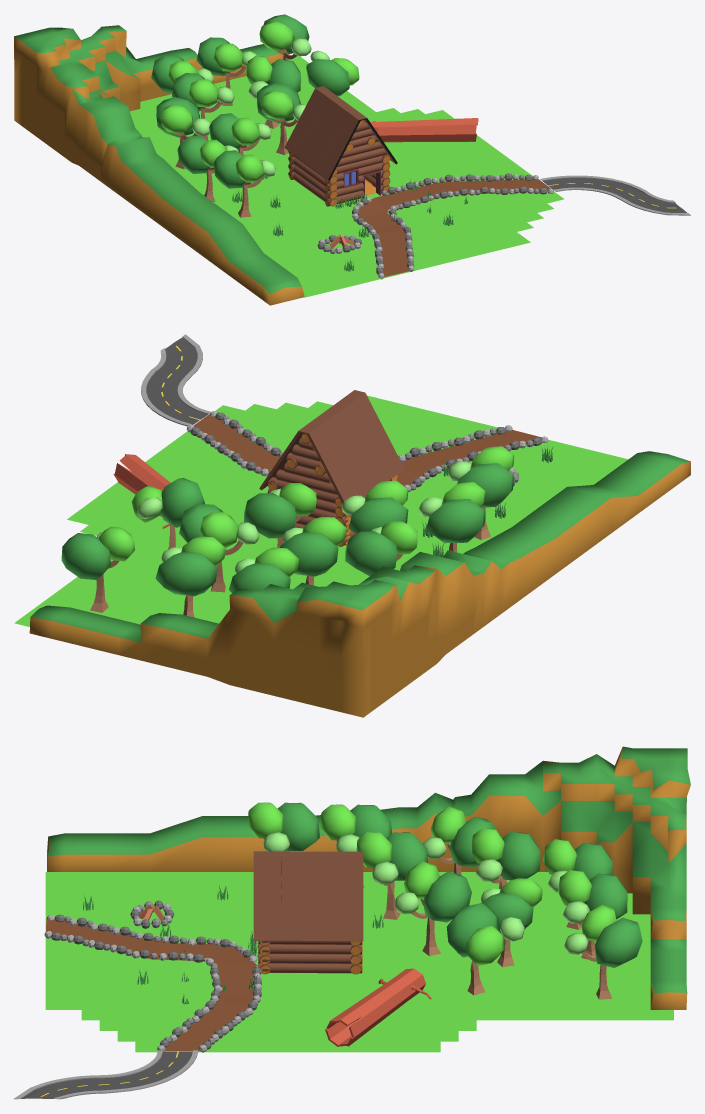
File: Fase Floresta.fbx
The picture shows the model from 3 angles, top to bottom: view 1: azimuth 30°, elevation 25°; view 2: azimuth 150°, elevation 25°; view 3: azimuth 270°, elevation 25°; orthographic projection. The views are drawn at different scales.
Visible parts, largest first — view 1: Fase Floresta, Montanha, Telhado, Cabana, Rua Floresta.001, Rua Floresta, Tronco caido, folha333, Folhas 1, Folhas 2, folha444.002, folha44.004 (+8 smaller); view 2: Montanha, Fase Floresta, Telhado, Rua Floresta.001, Rua Floresta, Cabana, folha111.001, folha222, folha444, Folhas 2, folha444.002, folha333.001 (+6 smaller); view 3: Fase Floresta, Montanha, Telhado, Rua Floresta.001, Rua Floresta, Cabana, Tronco caido, Folhas 1, folha444, folha333.001, Folhas 2, folha333 (+8 smaller).
Boxes of the visible parts, x1=… form: Fase Floresta: x1=130, y1=55, x2=564, y2=297; Montanha: x1=14, y1=25, x2=304, y2=305; Telhado: x1=284, y1=86, x2=397, y2=180; Cabana: x1=288, y1=120, x2=390, y2=206; Rua Floresta.001: x1=358, y1=179, x2=550, y2=277; Rua Floresta: x1=540, y1=175, x2=690, y2=215; Tronco caido: x1=370, y1=118, x2=478, y2=142; folha333: x1=213, y1=150, x2=275, y2=188; Folhas 1: x1=306, y1=50, x2=359, y2=96; Folhas 2: x1=259, y1=14, x2=311, y2=56; folha444.002: x1=156, y1=97, x2=210, y2=137; folha44.004: x1=246, y1=55, x2=300, y2=98; Montanha: x1=29, y1=451, x2=690, y2=717; Fase Floresta: x1=14, y1=395, x2=627, y2=626; Telhado: x1=259, y1=390, x2=404, y2=503; Rua Floresta.001: x1=194, y1=414, x2=541, y2=485; Rua Floresta: x1=141, y1=334, x2=210, y2=426; Cabana: x1=267, y1=433, x2=397, y2=546; folha111.001: x1=155, y1=536, x2=225, y2=596; folha222: x1=418, y1=482, x2=485, y2=543; folha444: x1=244, y1=483, x2=316, y2=538; Folhas 2: x1=61, y1=526, x2=134, y2=579; folha444.002: x1=345, y1=521, x2=417, y2=575; folha333.001: x1=280, y1=516, x2=346, y2=576; Fase Floresta: x1=45, y1=872, x2=673, y2=1052; Montanha: x1=47, y1=746, x2=690, y2=1009; Telhado: x1=253, y1=851, x2=363, y2=941; Rua Floresta.001: x1=46, y1=918, x2=256, y2=1051; Rua Floresta: x1=14, y1=1050, x2=198, y2=1099; Cabana: x1=258, y1=858, x2=362, y2=974; Tronco caido: x1=325, y1=968, x2=431, y2=1046; Folhas 1: x1=446, y1=903, x2=524, y2=965; folha444: x1=394, y1=861, x2=471, y2=922; folha333.001: x1=471, y1=828, x2=540, y2=881; Folhas 2: x1=564, y1=904, x2=642, y2=967; folha333: x1=247, y1=802, x2=319, y2=851.
Bounding box in the file's own units: 4334 × 866 × 4965.
